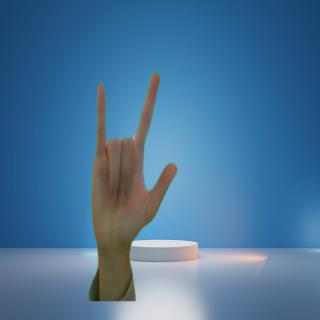ILY: (90, 72, 180, 256)
